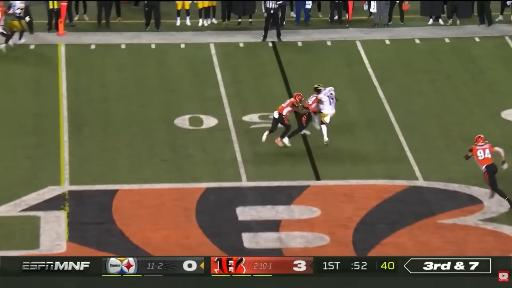Helmet: (314, 84, 324, 94), (475, 135, 486, 144), (294, 93, 303, 102)
Jersey: (469, 144, 493, 169), (319, 88, 335, 114), (278, 99, 298, 116), (8, 2, 25, 20), (304, 95, 319, 112), (0, 8, 5, 31)
Player: (464, 135, 511, 208), (262, 93, 307, 146), (283, 94, 321, 146), (0, 2, 29, 52), (319, 87, 337, 144), (196, 2, 216, 26), (176, 2, 191, 25), (207, 2, 217, 24), (0, 8, 7, 38), (314, 85, 324, 95)
